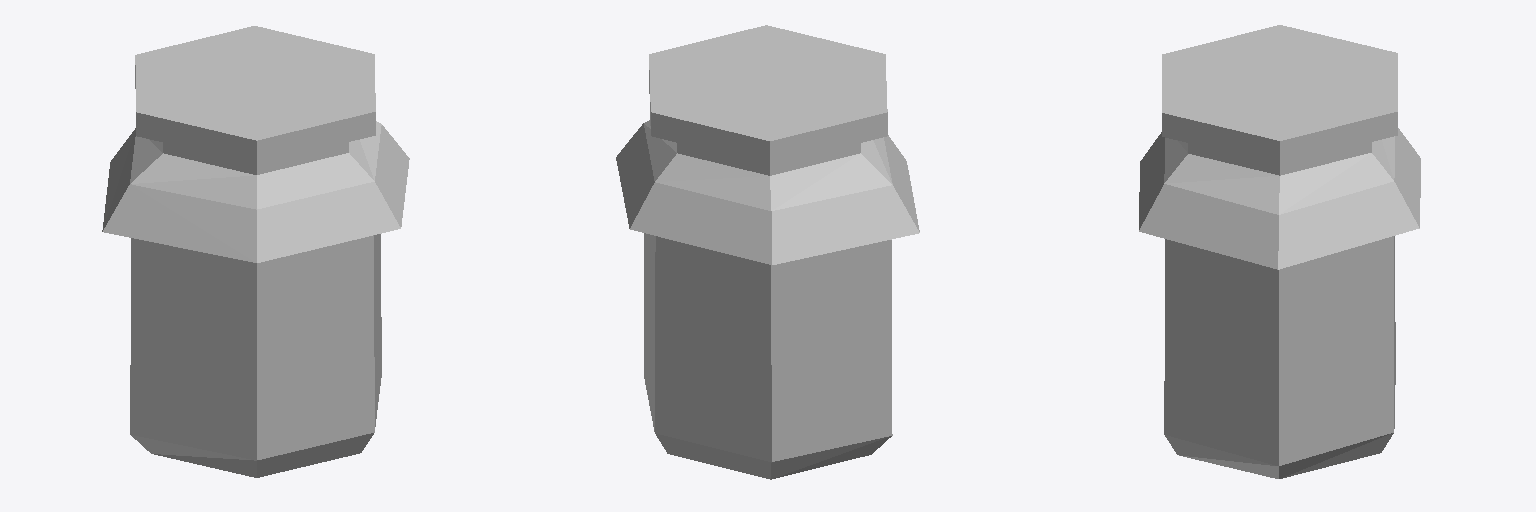
The model's file is jar.obj.
3 renders of one model, left to right at view 1: azimuth 30°, elevation 25°; view 2: azimuth 150°, elevation 25°; view 3: azimuth 270°, elevation 25°, orthographic.
Parts seen in each view (by area): view 1: Cylinder; view 2: Cylinder; view 3: Cylinder.
Part boxes in pixels (x1,y1,x2,y2): Cylinder: (102, 26, 409, 477); Cylinder: (616, 25, 919, 479); Cylinder: (1139, 25, 1420, 478).
Bounding box in the file's own units: 2.68 × 2.9 × 2.15.